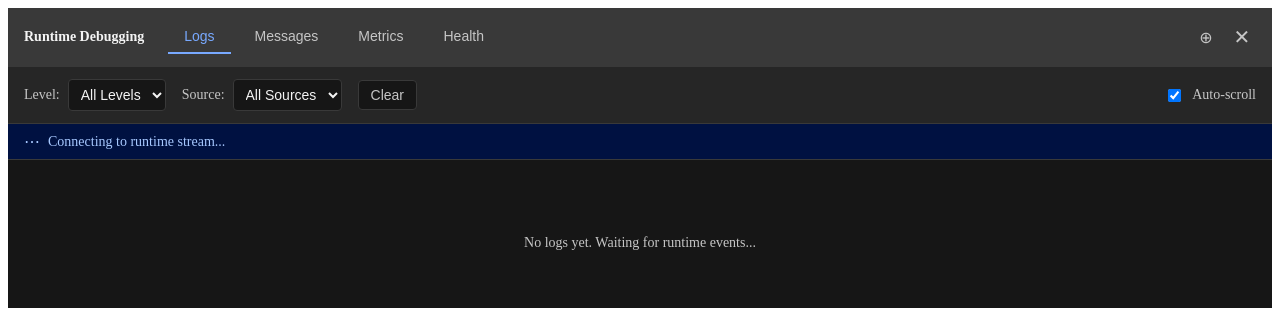
Test: RuntimePanel › Tab Navigation › should switch to Metrics tab when clicked
Click the tab with test id "tab-metrics". click: (381, 37)
box: x1=342 y1=20 x2=420 y2=54
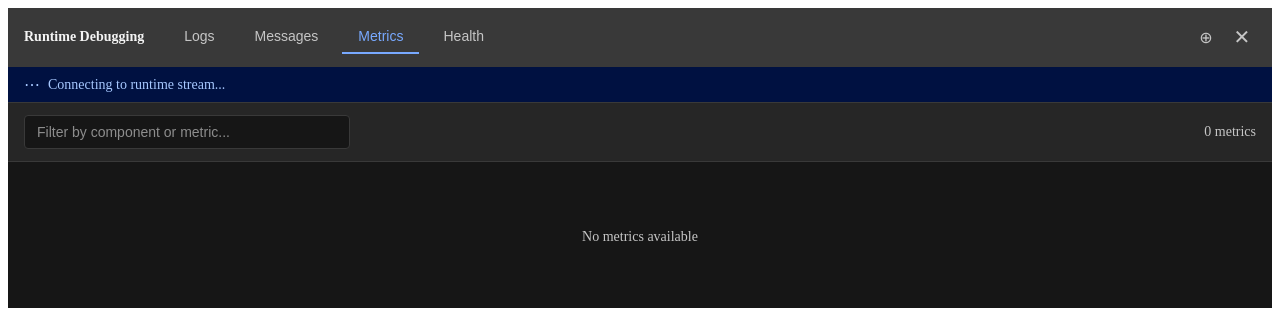
Now the panel with test id "metrics-panel" is shown
